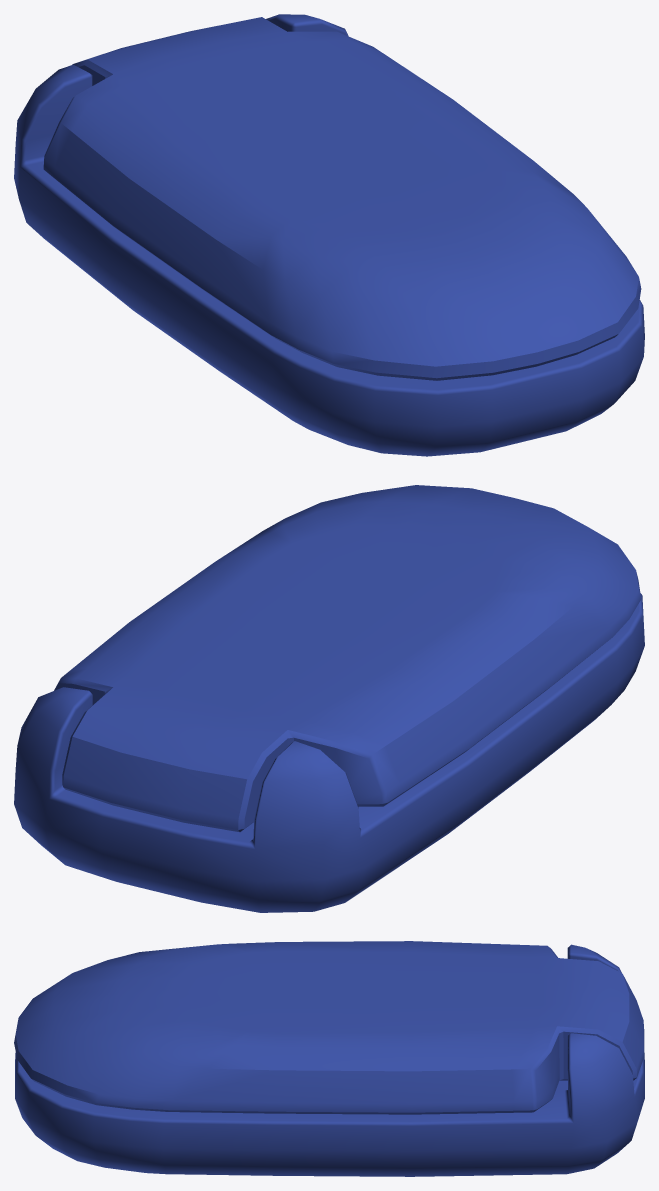
Rendered from geo_flipPhone_Closed.fbx.
The picture shows the model from 3 angles, top to bottom: view 1: azimuth 30°, elevation 25°; view 2: azimuth 150°, elevation 25°; view 3: azimuth 270°, elevation 25°; orthographic projection. The views are drawn at different scales.
Parts seen in each view (by area): view 1: flipPhone_Closed_GEO; view 2: flipPhone_Closed_GEO; view 3: flipPhone_Closed_GEO.
Part boxes in pixels (left/top/right/bottom): flipPhone_Closed_GEO: left=14, top=14, right=644, bottom=456; flipPhone_Closed_GEO: left=14, top=485, right=644, bottom=912; flipPhone_Closed_GEO: left=14, top=941, right=644, bottom=1176.
Bounding box in the file's own units: 9.05 × 4.12 × 17.11.
